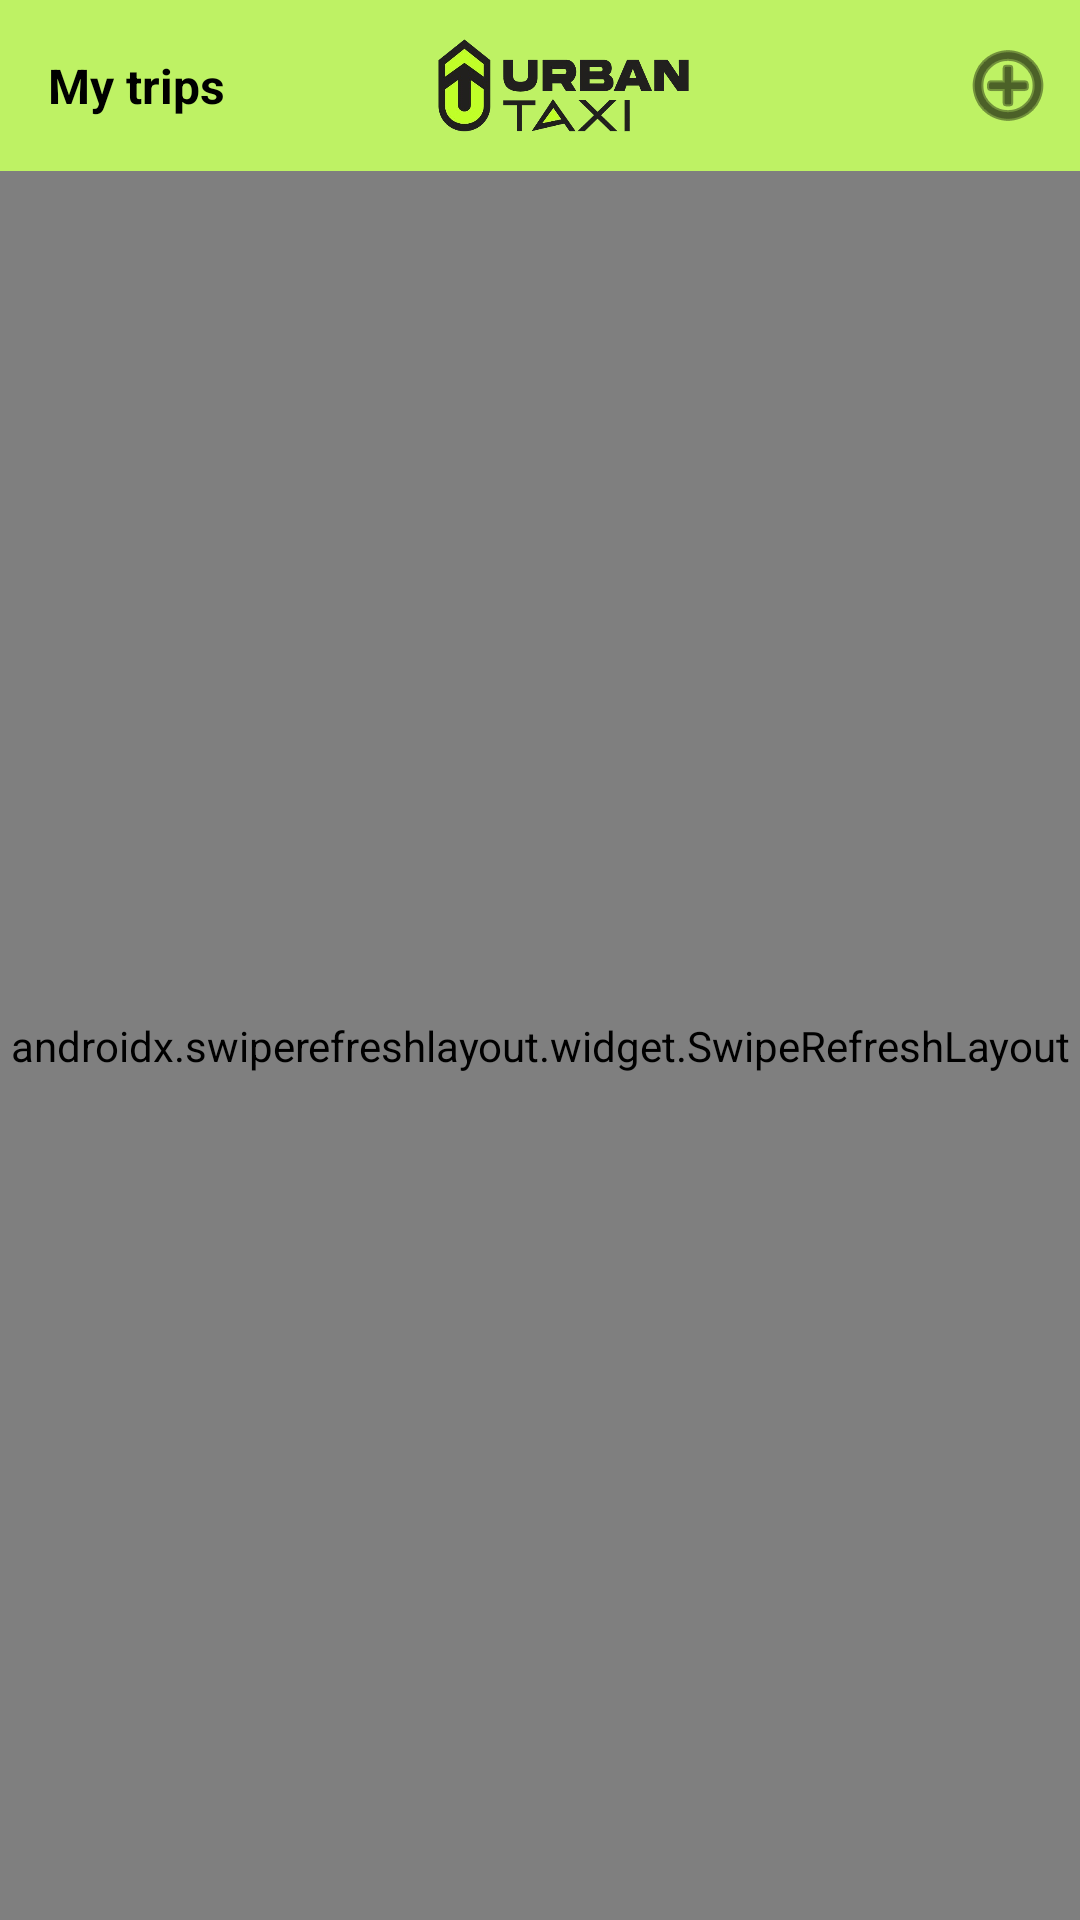

Point at icon controls on the screen. Image size 1080px x 1920px, points as point (x, y).
add: point (1008, 85)
